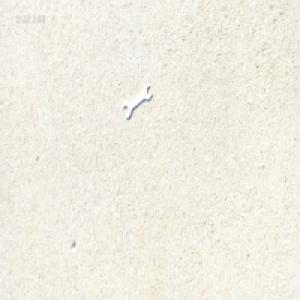Wrench: (122, 83, 153, 119)
